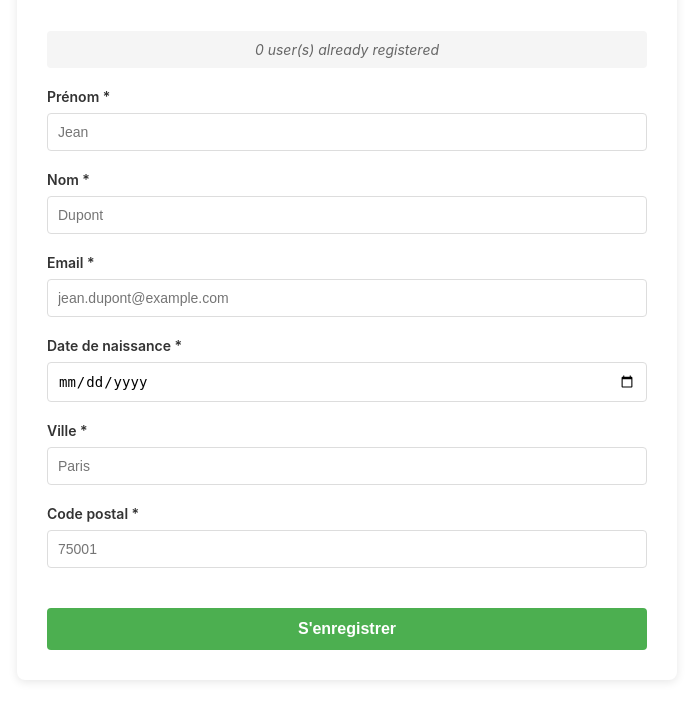
RegisterForm Integration Tests › should clear error messages when user types in field
(page scrolled)
Step 1. Click the button "S'enregistrer" → click(347, 629), box 47,608 -> 647,650
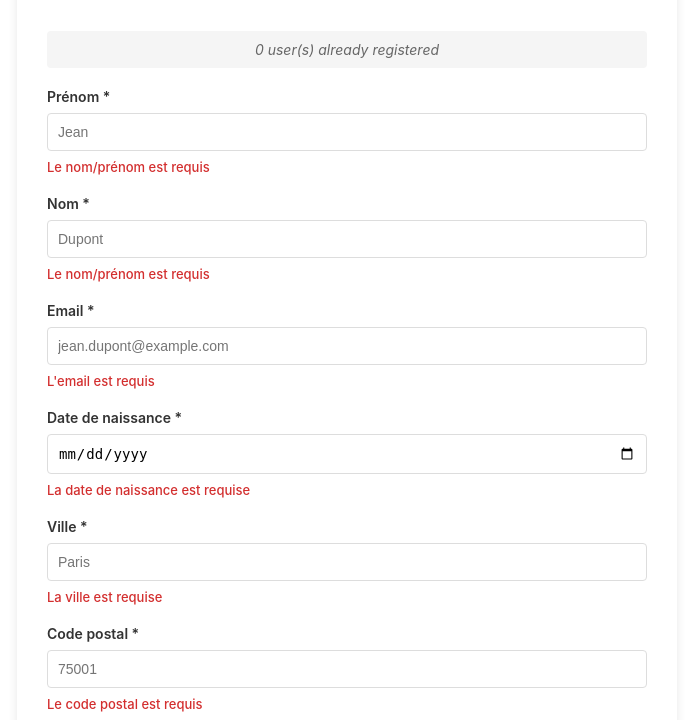
Check: the text with test id "error-firstName" is shown, box 47,159 -> 210,175
Step 2. Type "J" into the field with test id "input-firstName" → (347, 132), box 47,113 -> 647,151
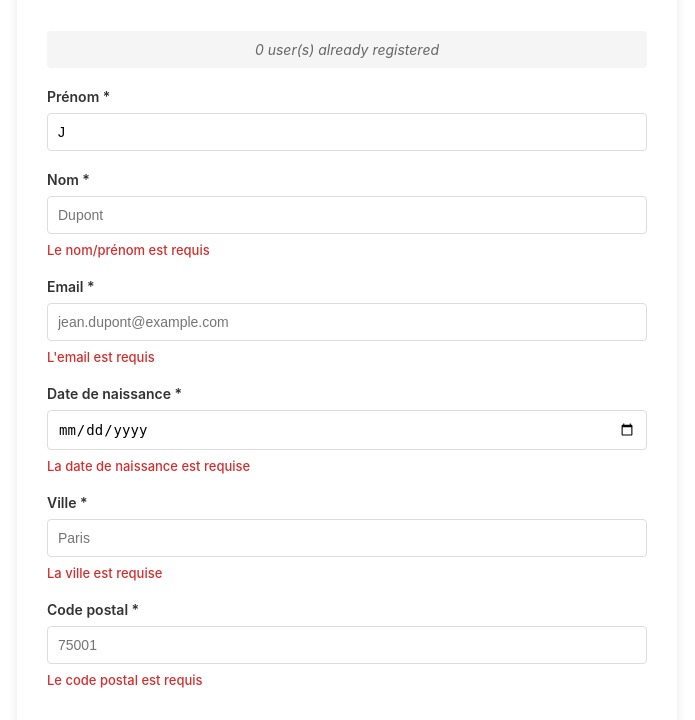
Check: the text with test id "error-firstName" is gone
